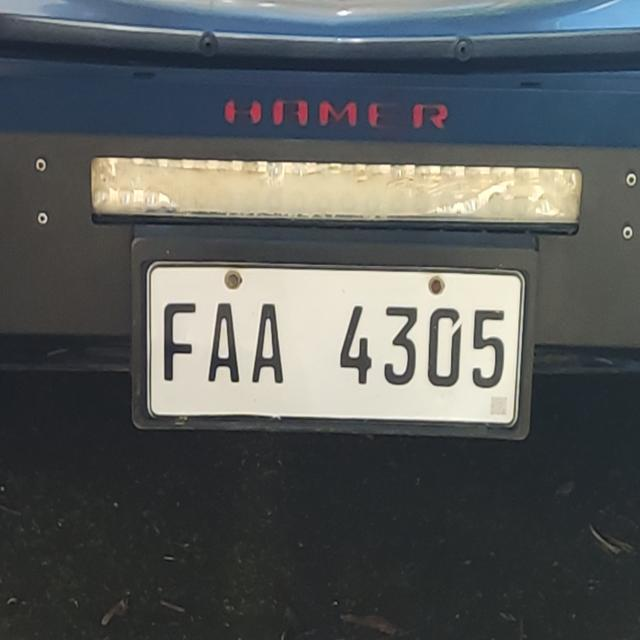LicensePlate: (134, 242, 522, 442)
